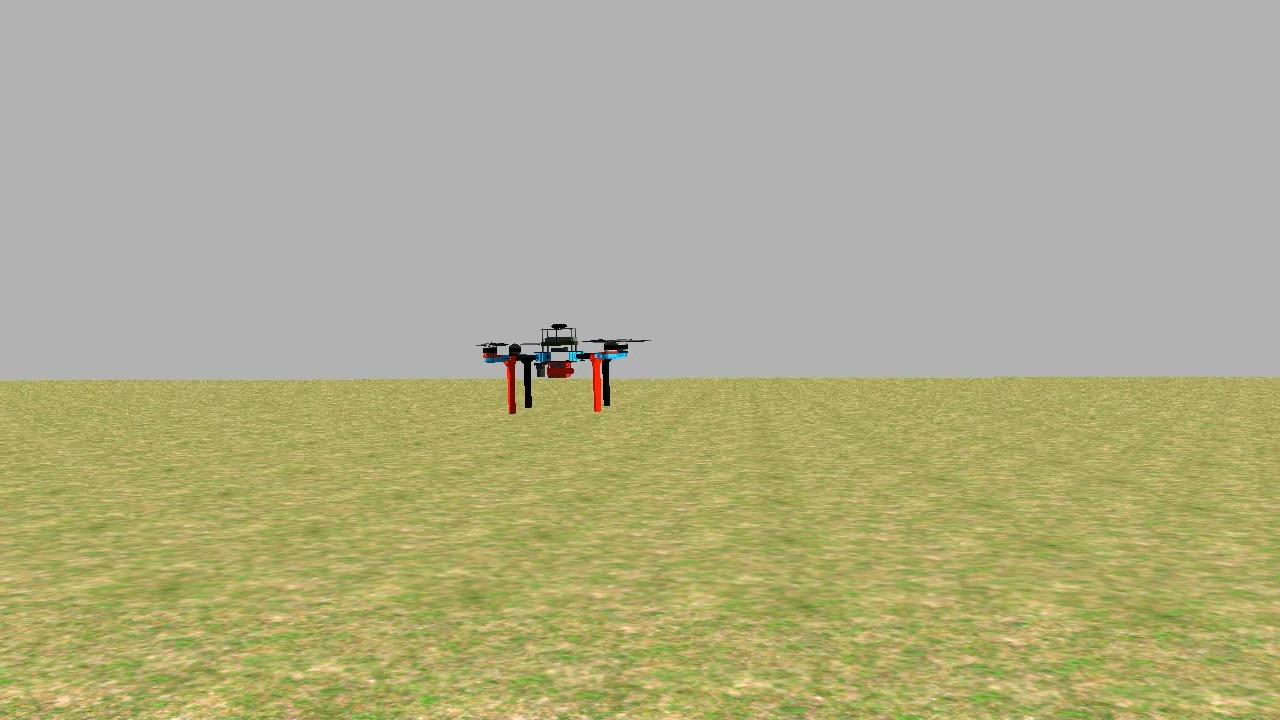UAV: (469, 306, 637, 421)
